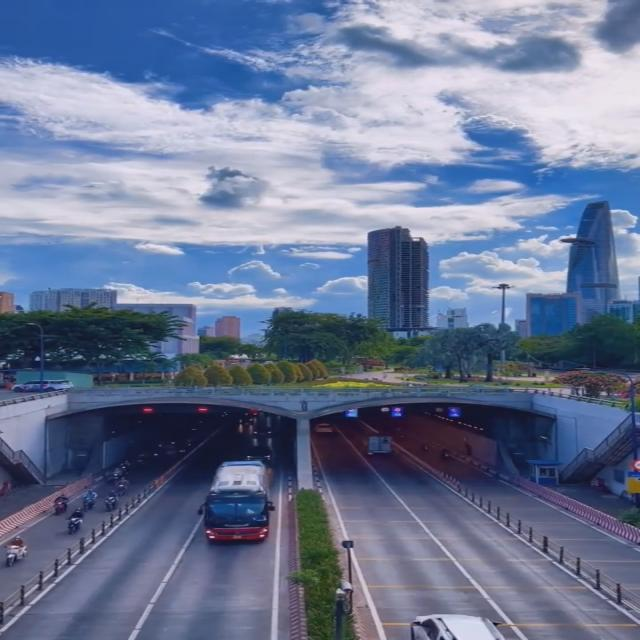bus: (202, 459, 272, 545)
car: (407, 610, 504, 640)
motorbike: (1, 536, 28, 569), (64, 508, 84, 533), (80, 489, 100, 512), (102, 490, 120, 510), (54, 494, 68, 516), (116, 477, 130, 494)
